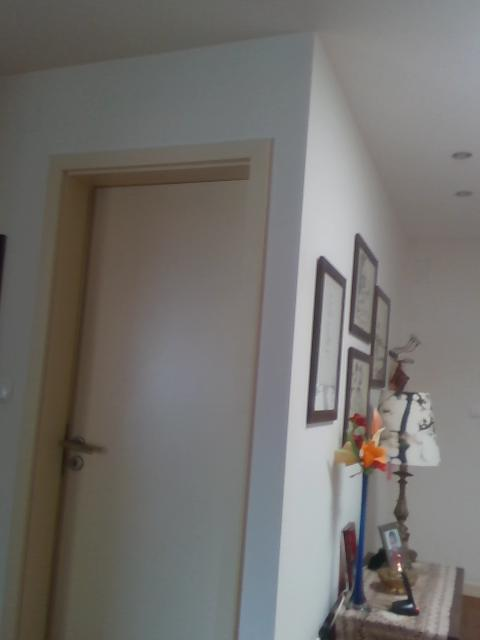door: (48, 179, 243, 640)
